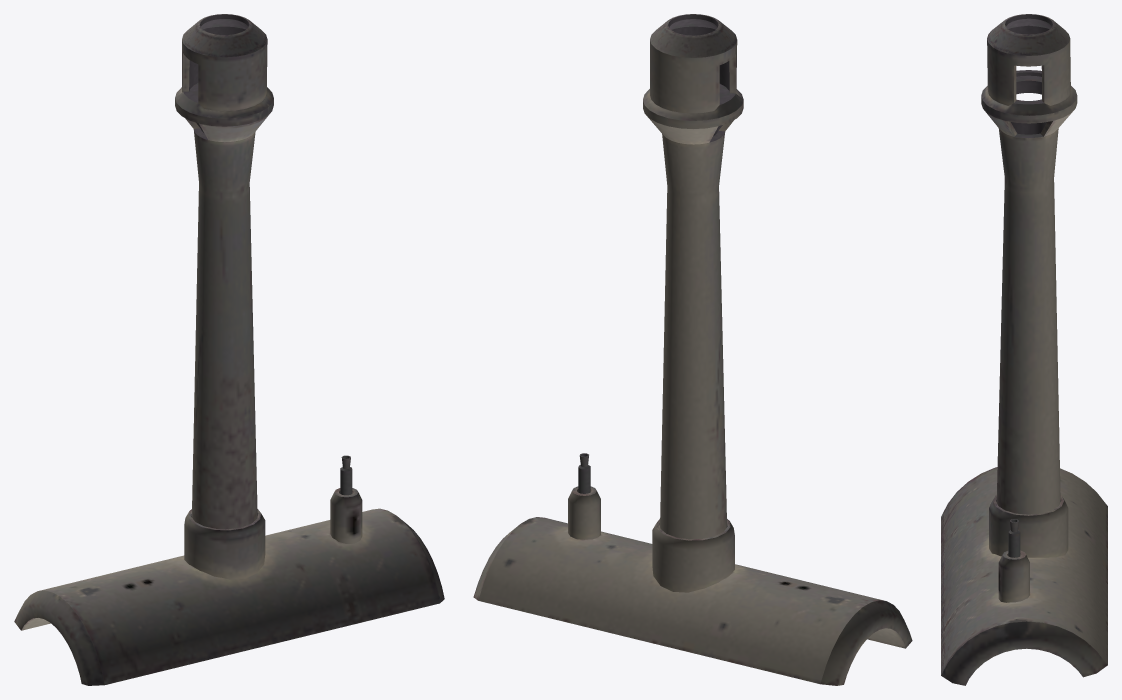
The model's file is Gun_02.glb.
The picture shows the model from 3 angles, left to right: view 1: azimuth 30°, elevation 25°; view 2: azimuth 150°, elevation 25°; view 3: azimuth 270°, elevation 25°; orthographic projection. The views are drawn at different scales.
Parts seen in each view (by area): view 1: set_0_group_0; view 2: set_0_group_0; view 3: set_0_group_0.
Part boxes in pixels (left/top/right/bottom): set_0_group_0: left=14, top=14, right=444, bottom=685; set_0_group_0: left=473, top=14, right=912, bottom=685; set_0_group_0: left=941, top=14, right=1107, bottom=685.
Bounding box in the file's own units: 1.26 × 1.99 × 0.5237.
1 material, 1 textured.
